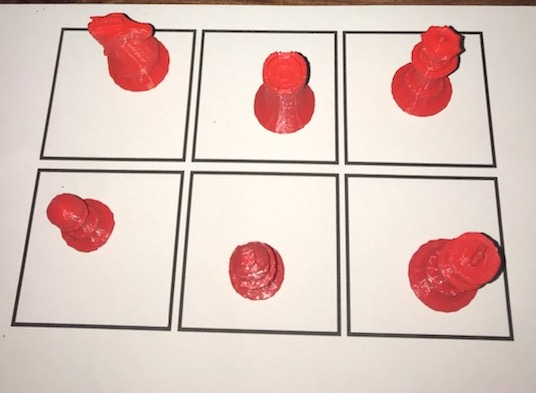Red Bishop: (221, 236, 291, 308)
Red Castle: (235, 44, 320, 143)
Red King: (401, 223, 507, 327)
Red Knight: (81, 6, 175, 102)
Red Pawn: (38, 189, 119, 254)
Red Queen: (383, 23, 467, 123)
